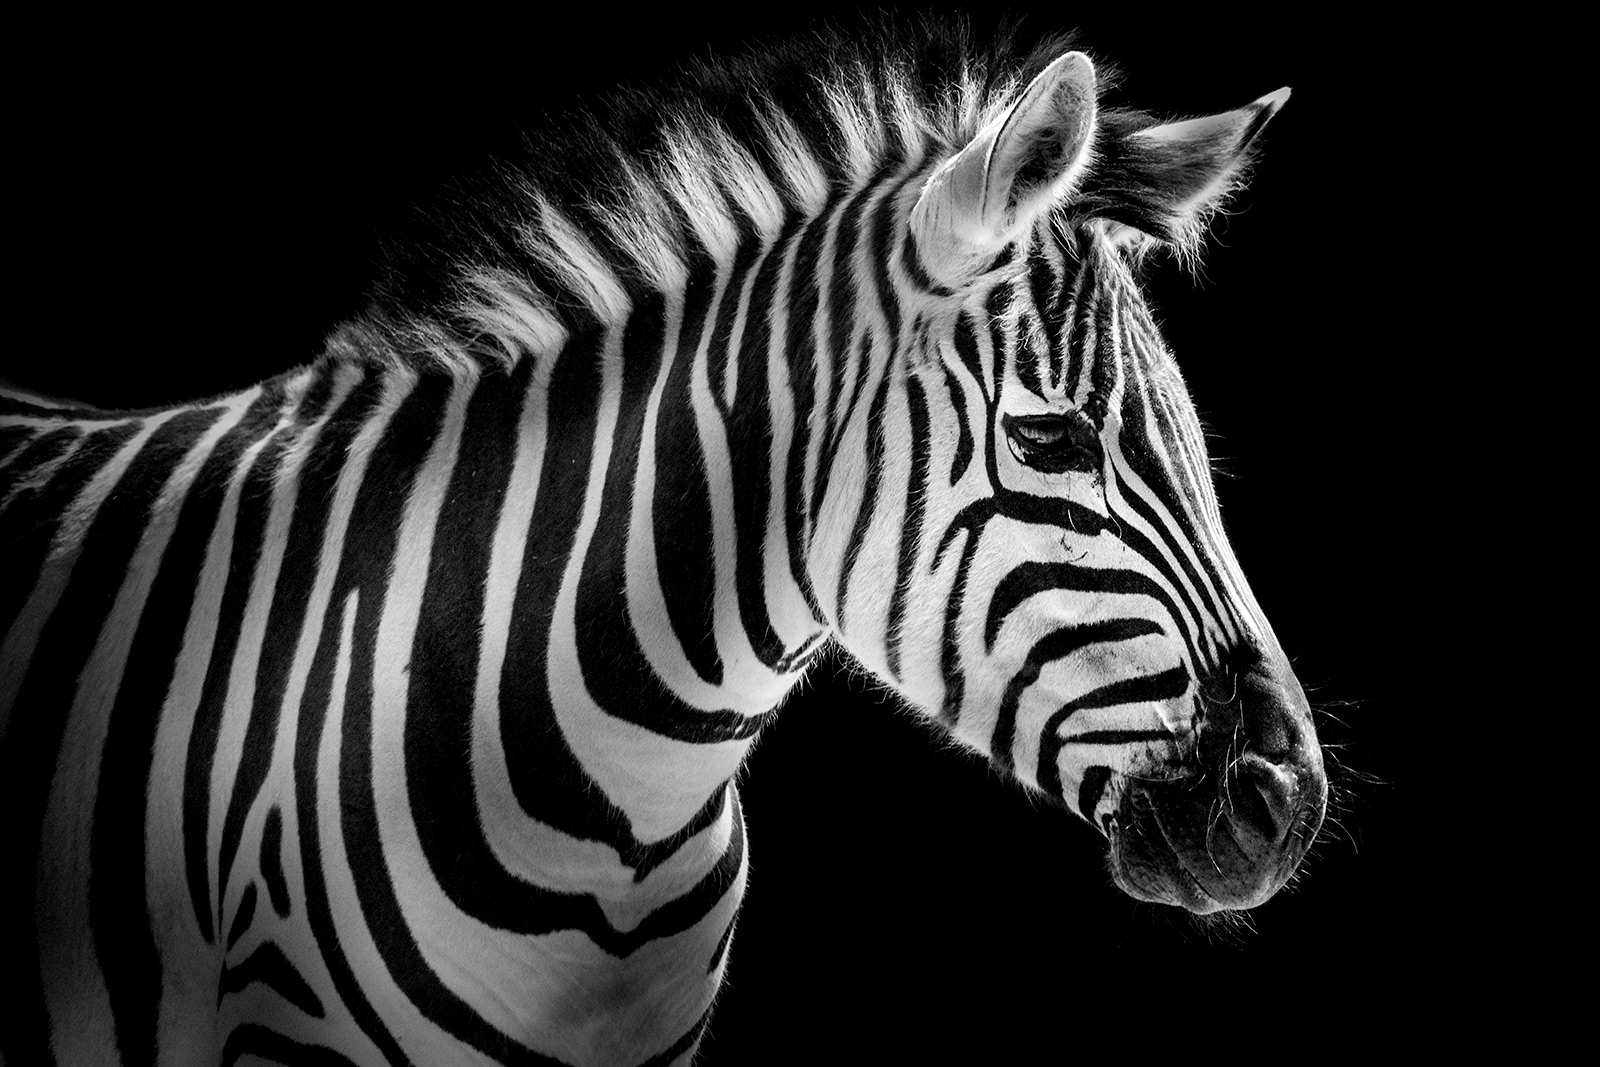zebra: (1, 36, 1363, 1065)
